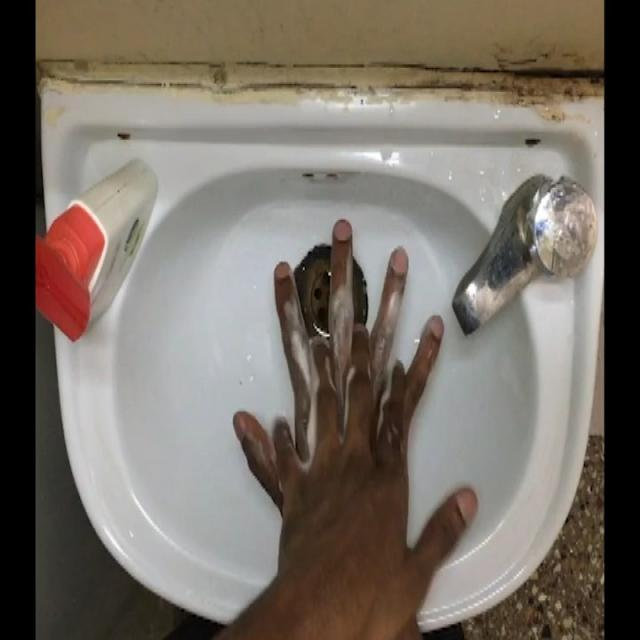step_2: (224, 212, 443, 545)
